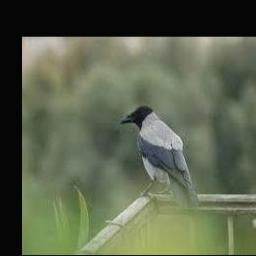Crow: (120, 104, 200, 207)
